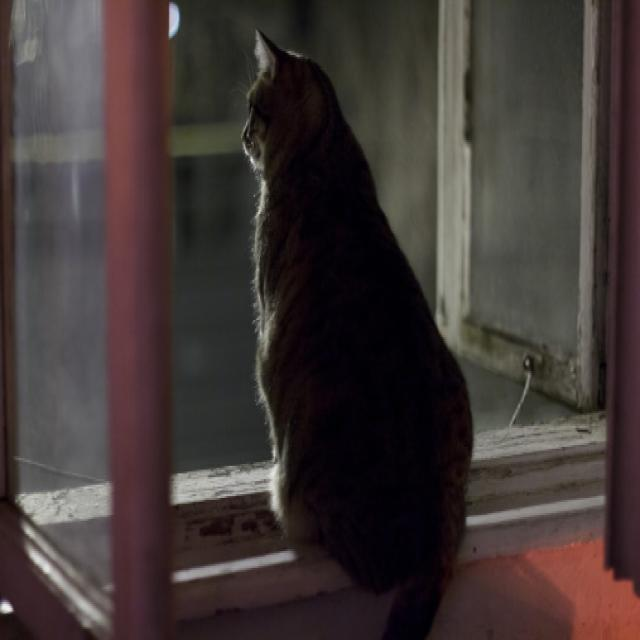Cat: (221, 15, 475, 640)
